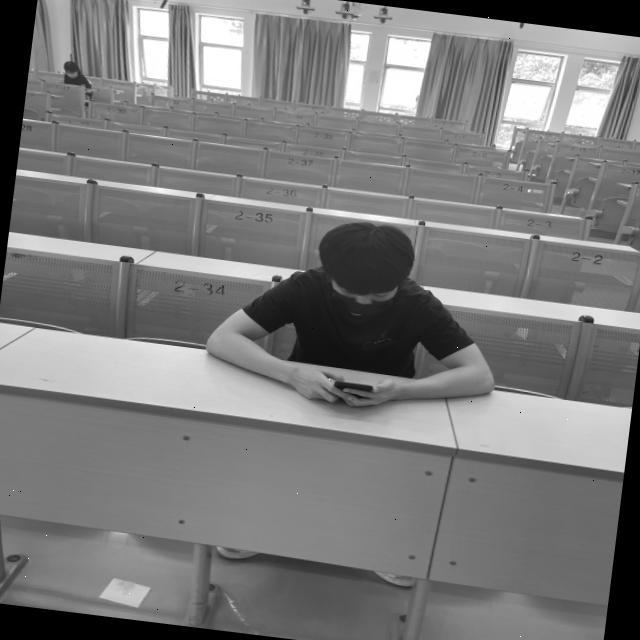phone: (200, 204, 517, 426)
study: (61, 59, 90, 88)
